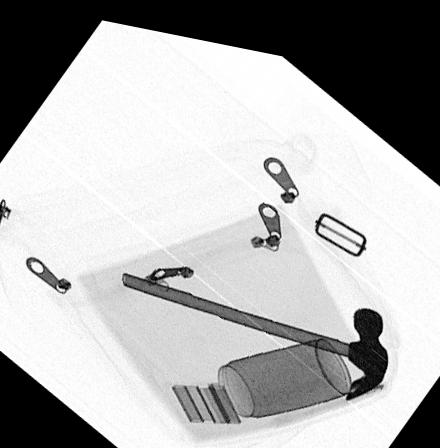Hammer: (120, 265, 389, 384)
